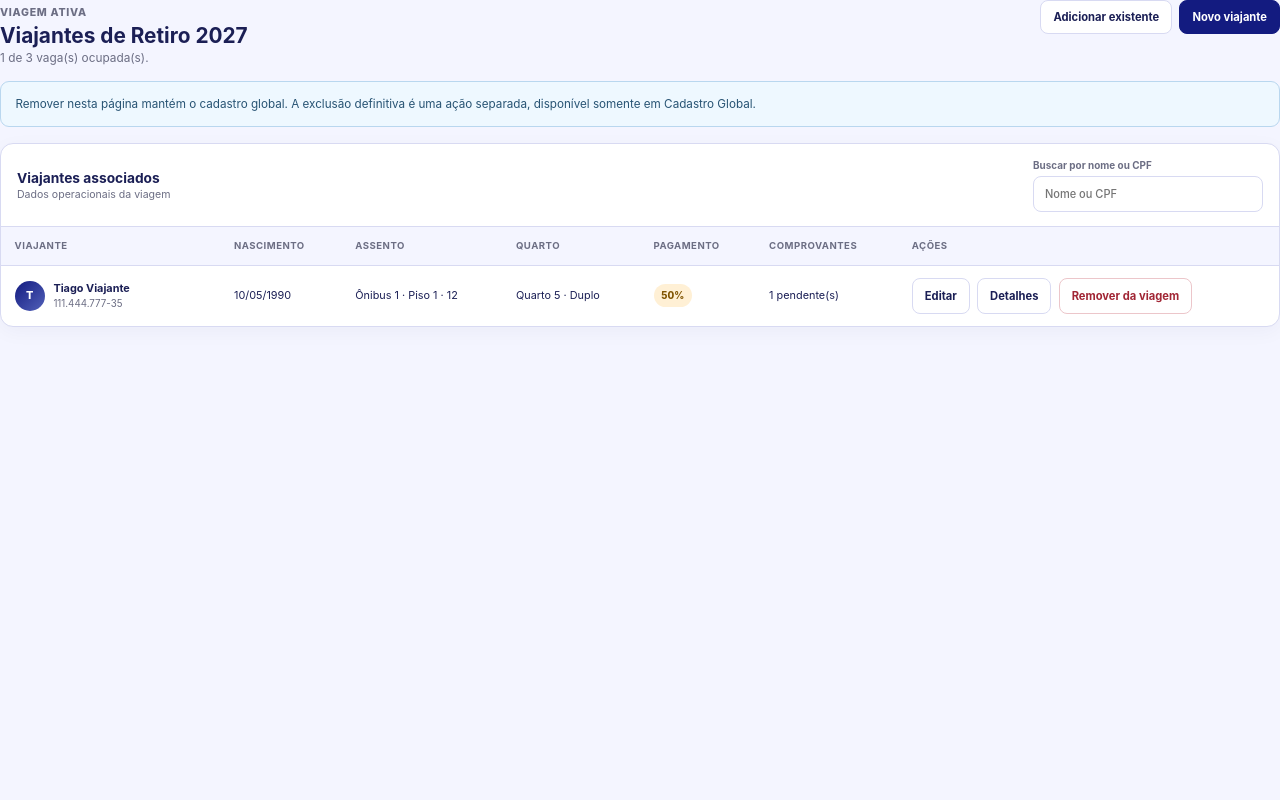
Test: TripTravelersPage › exibe assento, quarto, pagamento e comprovantes nos detalhes
The width and height of the screenshot is (1280, 800).
Expected: the text "Ônibus 1 · Piso 1 · 12" is shown, [342,266,502,326]
Expected: the text "Quarto 5 · Duplo" is shown, [502,266,640,326]
Click the button "Detalhes" at (1014, 296), box [977,278,1051,314]
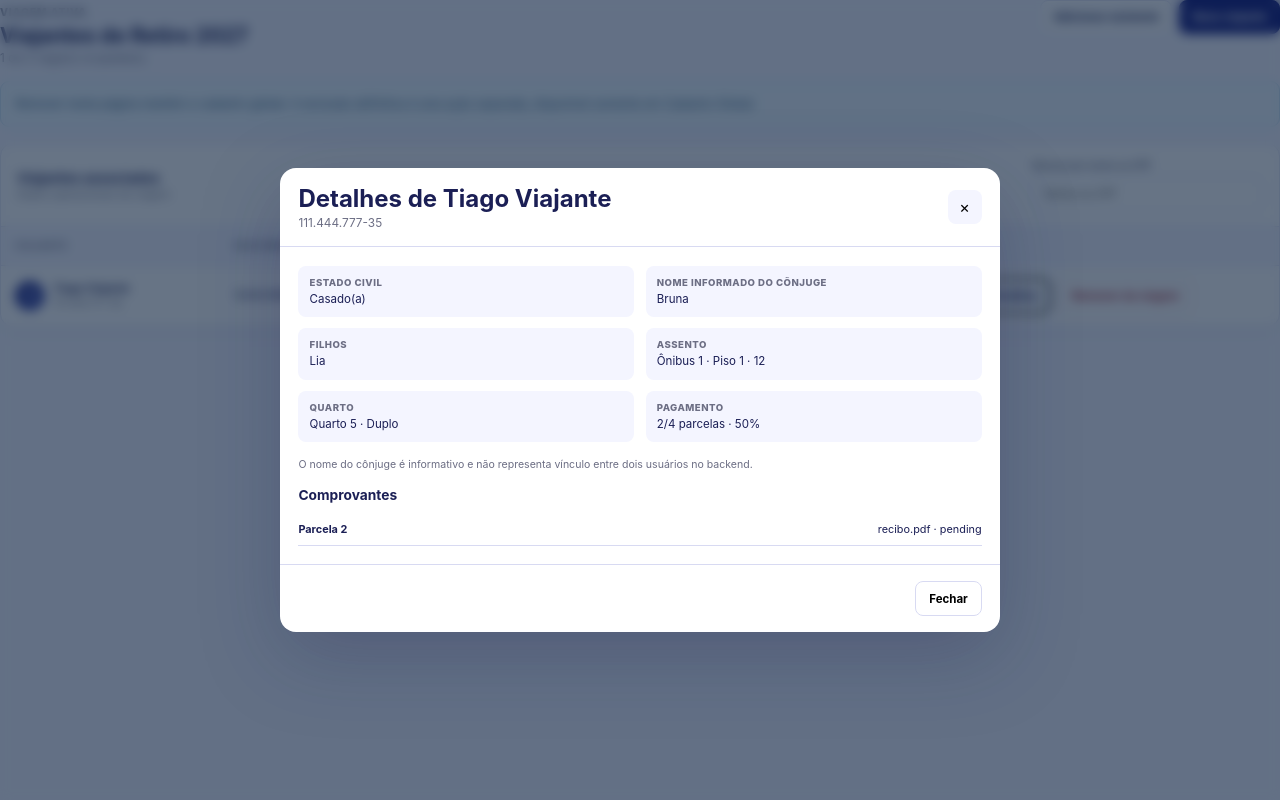
Expected: the text "Bruna" is shown, [657,292,689,306]
Expected: the text "recibo.pdf · pending" is shown, [878,522,982,536]
Expected: the text "não representa vínculo" is shown, [298,458,753,471]
